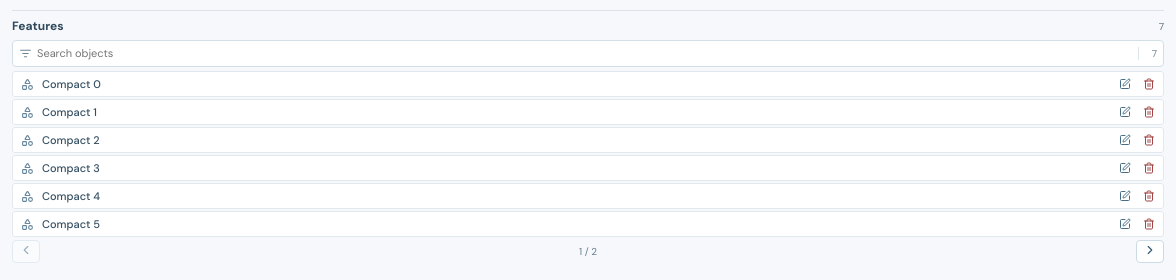
Test: shared research workbench chrome › renders six compact objects across layers and pages the remaining object
Expected: the number of elements with class "compact-object-row" is 6, [12, 71, 1164, 97]; [12, 99, 1164, 125]; [12, 127, 1164, 153]; [12, 155, 1164, 181]; [12, 183, 1164, 209]; [12, 211, 1164, 237]
Expected: the number of buttons named "Rename object" is 6, [1114, 73, 1136, 95]; [1114, 101, 1136, 123]; [1114, 129, 1136, 151]; [1114, 157, 1136, 179]; [1114, 185, 1136, 207]; [1114, 213, 1136, 235]
Click the button named "Next objects" at (1150, 252), box [1136, 240, 1164, 263]
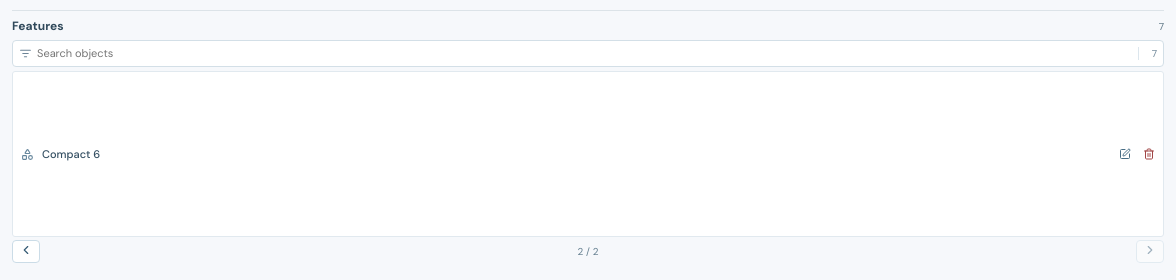
Now the number of elements with class "compact-object-row" is 1, box [12, 71, 1164, 237]
Now the button "Compact 6" is shown, box [13, 142, 1114, 166]
Type "no matching feature" into the search field named "Filter project features" at (585, 54), box [37, 44, 1133, 63]
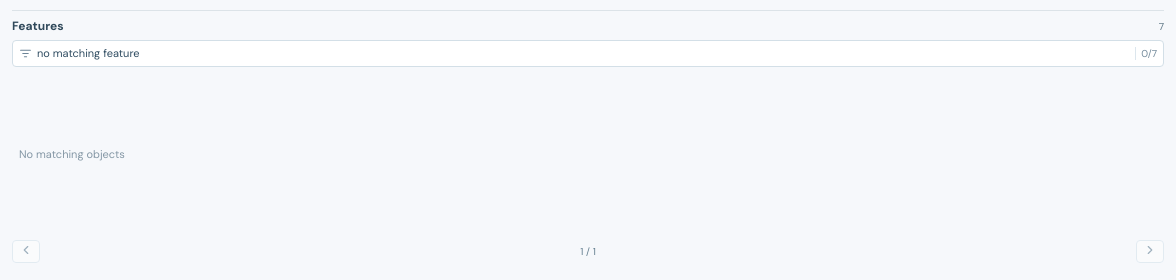
Now the button named "Next objects" is disabled, box [1136, 240, 1164, 263]
Now the button named "Previous objects" is disabled, box [12, 240, 40, 263]
